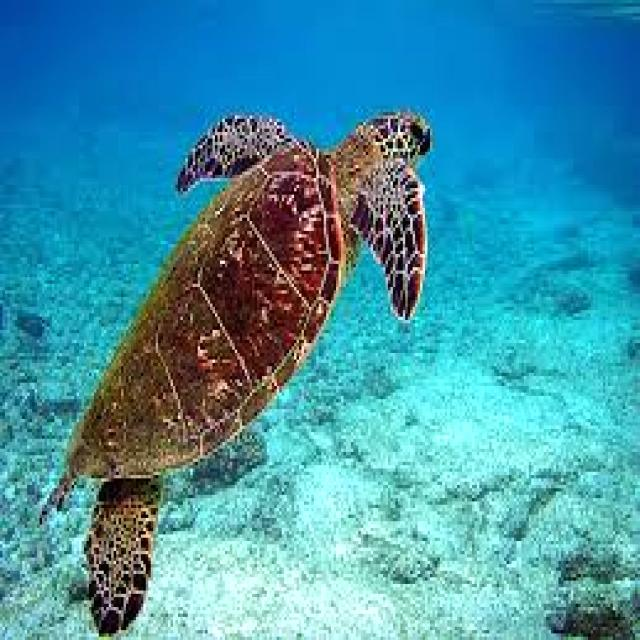Sea turtle: (38, 72, 438, 631)
